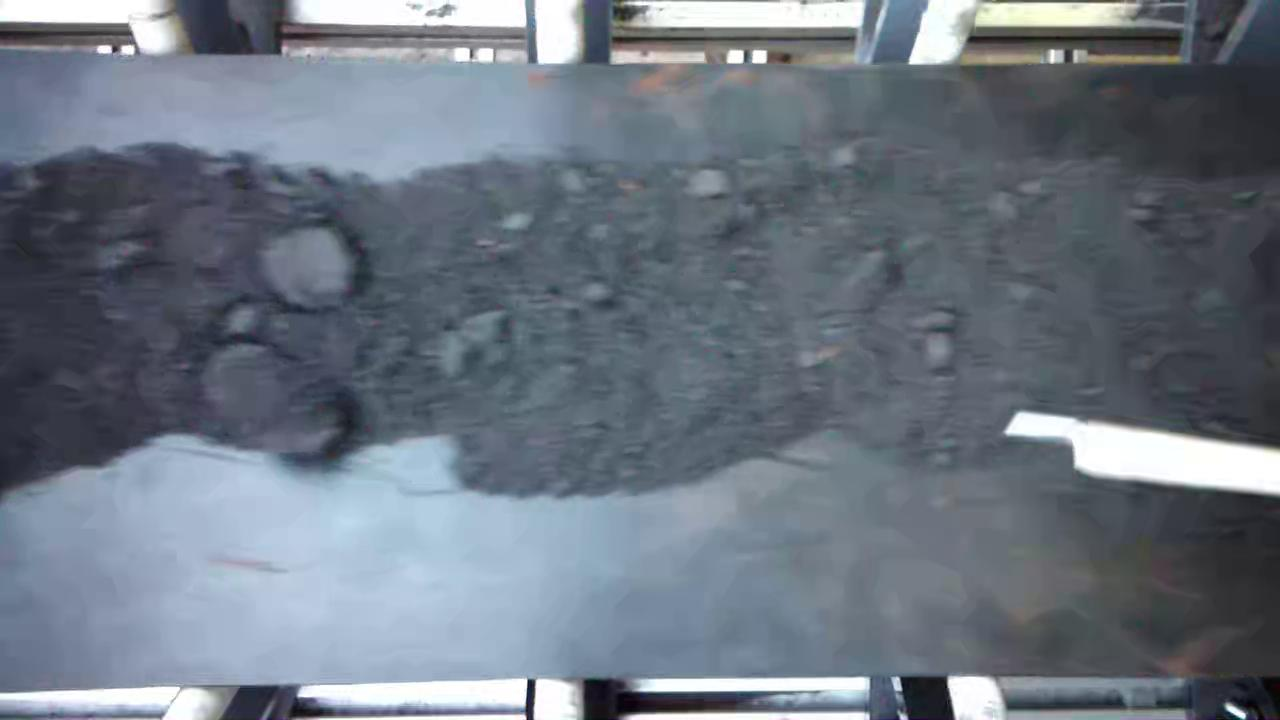conveyor: (1, 71, 1280, 676)
